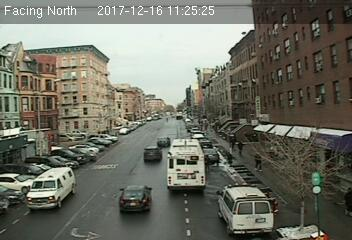bus: (167, 138, 206, 194)
car: (119, 185, 154, 211), (142, 146, 163, 162)
pedestrian: (254, 150, 263, 174), (224, 150, 234, 170), (237, 139, 244, 157)
police: (215, 182, 276, 234)
truck: (26, 166, 77, 210)
